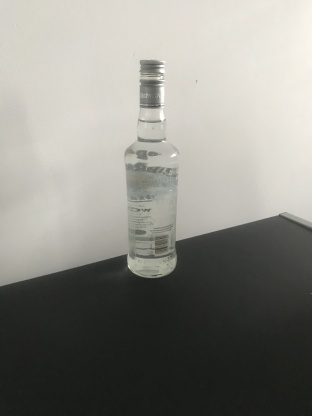nakretka: (138, 57, 166, 108)
